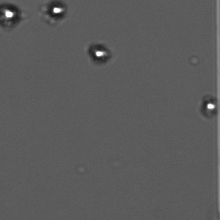Living Cell: (90, 47, 107, 62), (3, 5, 18, 21), (204, 100, 216, 113), (50, 5, 64, 15)
